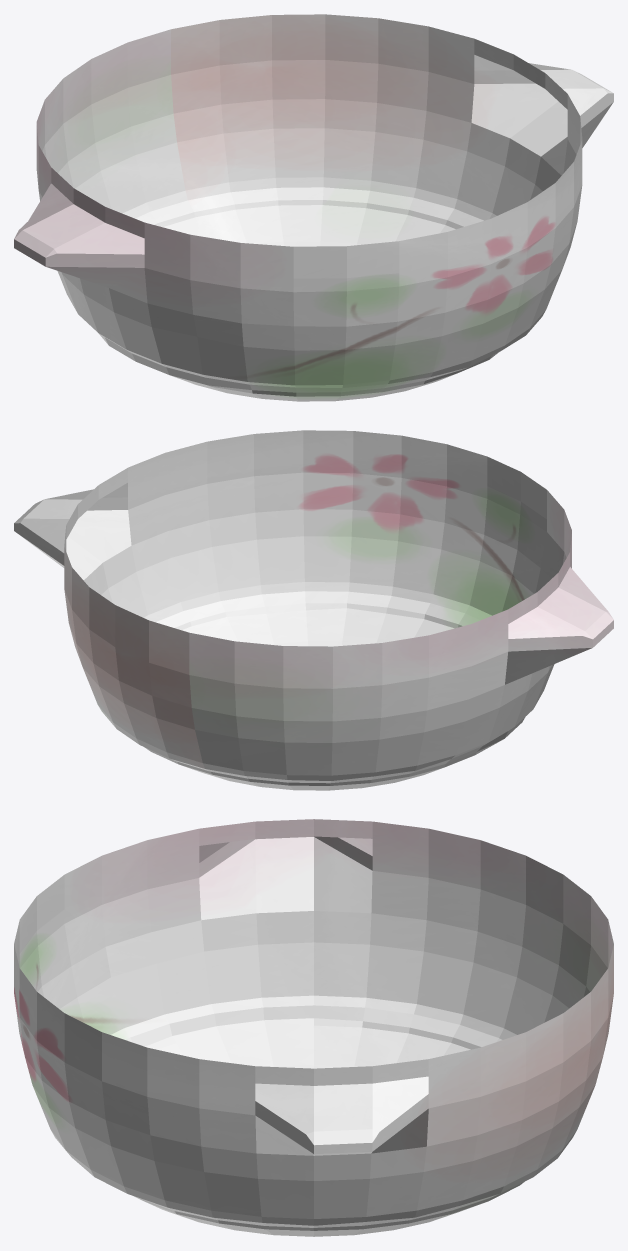
Rendered from nabe.glb.
3 views of the same model, one above another, from view 1: azimuth 30°, elevation 25°; view 2: azimuth 150°, elevation 25°; view 3: azimuth 270°, elevation 25° (orthographic). The views are drawn at different scales.
Parts seen in each view (by area): view 1: 円柱; view 2: 円柱; view 3: 円柱.
Boxes of the visible parts, left/top/right/bottom form: 円柱: left=14, top=14, right=613, bottom=401; 円柱: left=14, top=430, right=613, bottom=790; 円柱: left=14, top=819, right=613, bottom=1236.
Size of the model in its own units: 3.26 by 1.07 by 2.6.
Materials: 1 (1 with a texture image).
